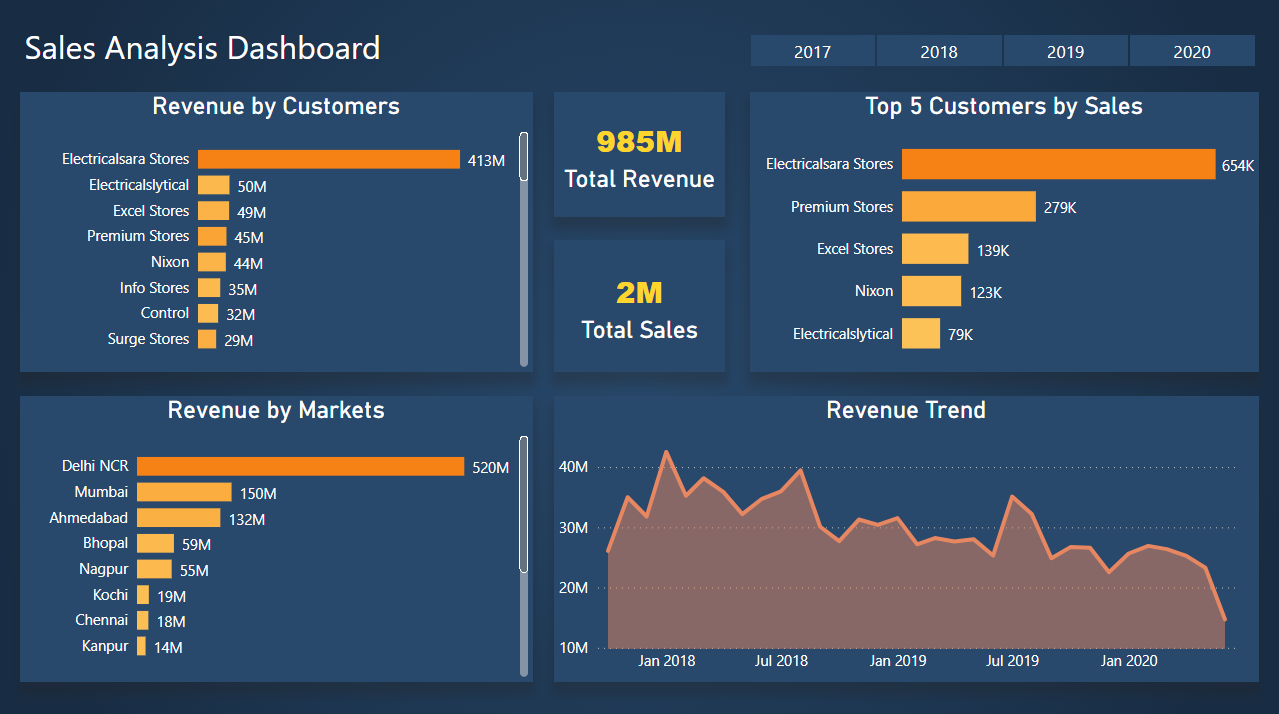

This screenshot's page, from the dashboard's own definition file:
{"tool":"powerbi","page":{"name":"Sales Insights Dashboard","canvas":[1280,720],"ordinal":0},"visuals":[{"type":"barChart","title":"Revenue by Customers","fields":{"Y":["BaseMeasures.Revenue"],"Category":["sales customers.custmer_name"]},"box":[20.5,94.1,513.8,279.8],"z":0},{"type":"barChart","title":"Revenue by Markets","fields":{"Category":["sales markets.markets_name"],"Y":["BaseMeasures.Revenue"]},"box":[20.5,398,513.8,285.8],"z":1000},{"type":"areaChart","title":"Revenue Trend","fields":{"Category":["sales date.cy_date"],"Y":["BaseMeasures.Revenue"]},"box":[554.8,398,705.5,285.8],"z":2000},{"type":"textbox","box":[20.5,20.5,513.8,59.1],"z":3000},{"type":"slicer","fields":{"Values":["sales date.year"]},"box":[726,30.2,553.6,39.8],"z":5000},{"type":"card","title":"Sales Quantity","fields":{"Values":["BaseMeasures.Sales Qty"]},"box":[554.8,242.4,171.3,131.5],"z":6000},{"type":"card","title":"Sales Quantity","fields":{"Values":["BaseMeasures.Revenue"]},"box":[554.8,94.1,171.3,125.4],"z":7000},{"type":"clusteredBarChart","title":"Top 5 Customers by Sales","fields":{"Category":["sales customers.custmer_name"],"Y":["BaseMeasures.Sales Qty"]},"box":[751.4,94.1,508.9,279.8],"z":8000}]}

Visuals, with their boxes in screenshot pixels (x1, y1, x2, y2), scaled from the page's 1280x720 canvas onto the 1279x714 screenshot:
"Revenue by Customers" barChart: pyautogui.locateOnScreen(20, 93, 534, 371)
"Revenue by Markets" barChart: pyautogui.locateOnScreen(20, 395, 534, 678)
"Revenue Trend" areaChart: pyautogui.locateOnScreen(554, 395, 1259, 678)
textbox: pyautogui.locateOnScreen(20, 20, 534, 79)
slicer - sales date.year: pyautogui.locateOnScreen(725, 30, 1278, 69)
"Sales Quantity" card: pyautogui.locateOnScreen(554, 240, 726, 371)
"Sales Quantity" card: pyautogui.locateOnScreen(554, 93, 726, 218)
"Top 5 Customers by Sales" clusteredBarChart: pyautogui.locateOnScreen(751, 93, 1259, 371)
